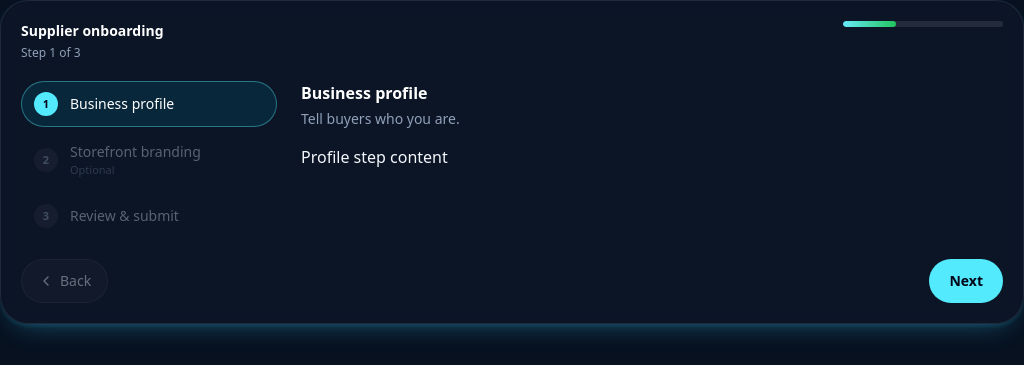
Test: SupplierOnboardingWizard › advances to the next step once isComplete becomes true
Click the button "Next": (966, 281) left=930, top=259, right=1003, bottom=303
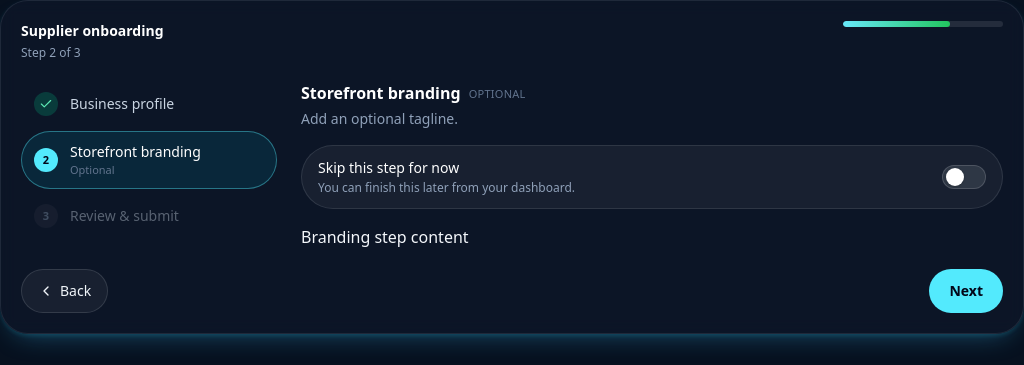
Expected: the text "Step 2 of 3" is shown, left=21, top=44, right=81, bottom=61
Expected: the text "Branding step content" is shown, left=301, top=226, right=469, bottom=248
